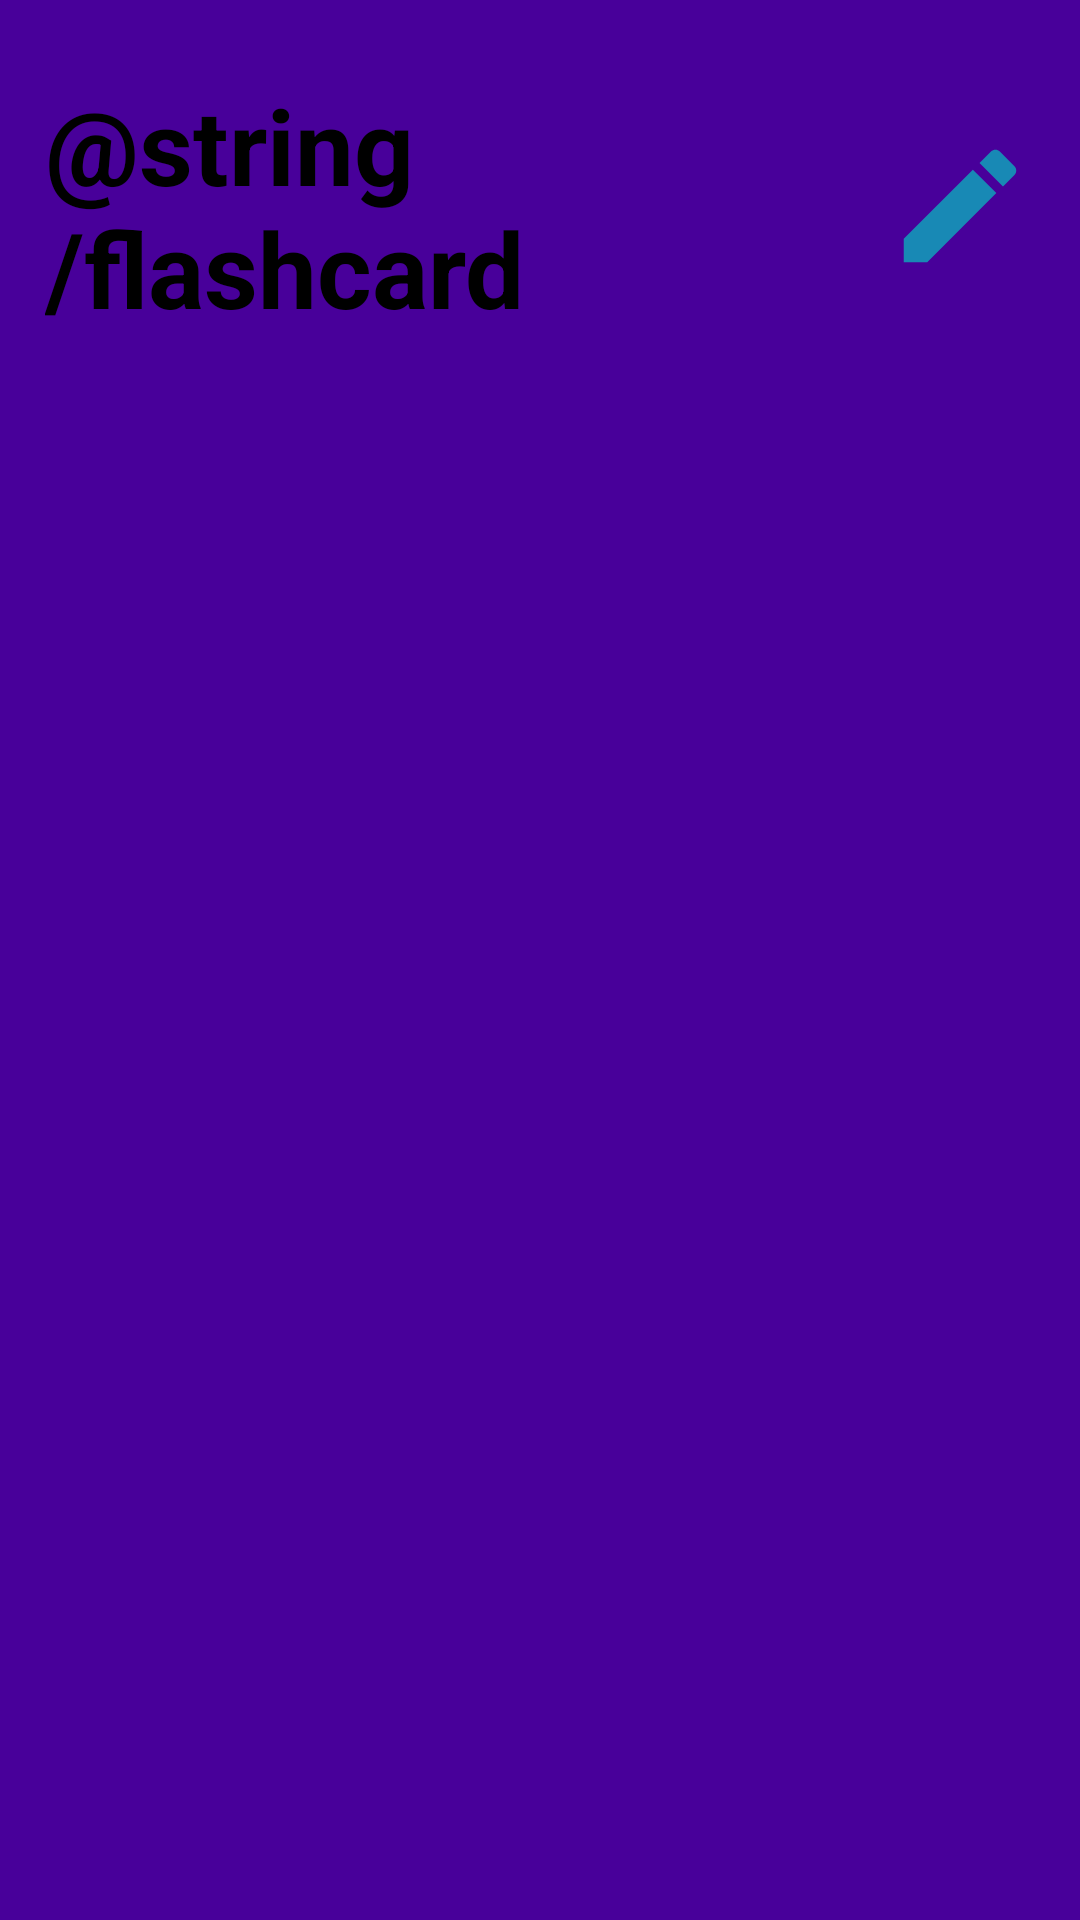

Where to tap for icons on this 1080 x 1920 app screen, as [x,y]:
edit: [960,206]
